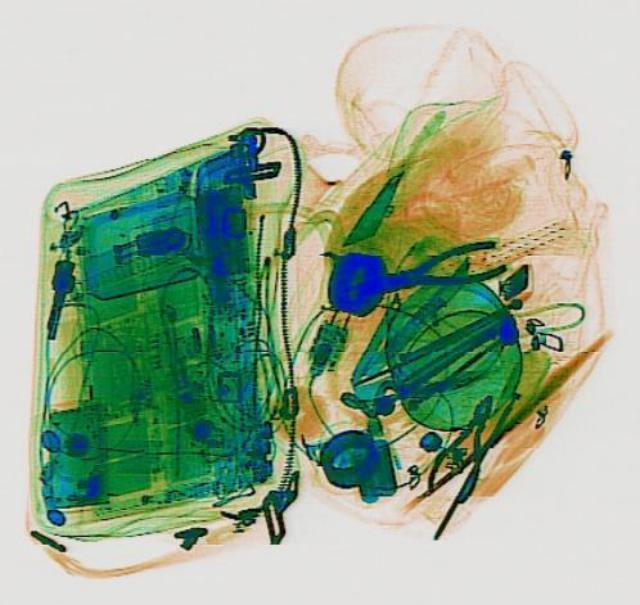Pliers: (418, 385, 508, 503), (359, 233, 506, 304)
